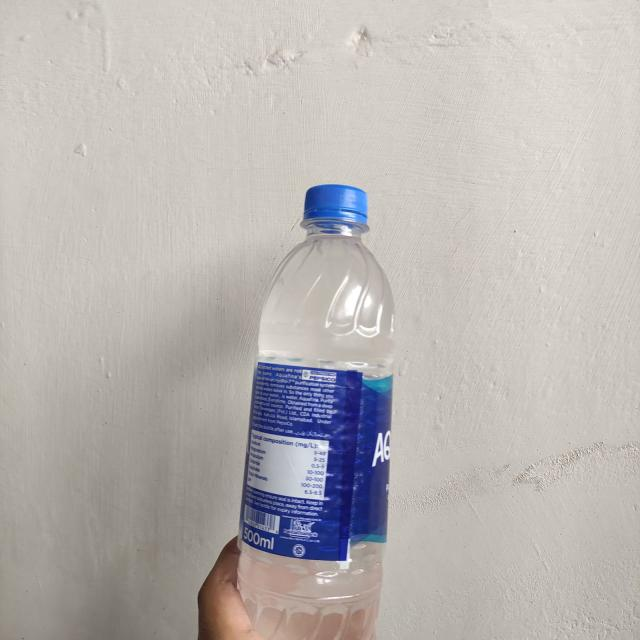bottle: (235, 171, 400, 640)
cap: (295, 179, 374, 238)
label: (238, 360, 404, 564)
